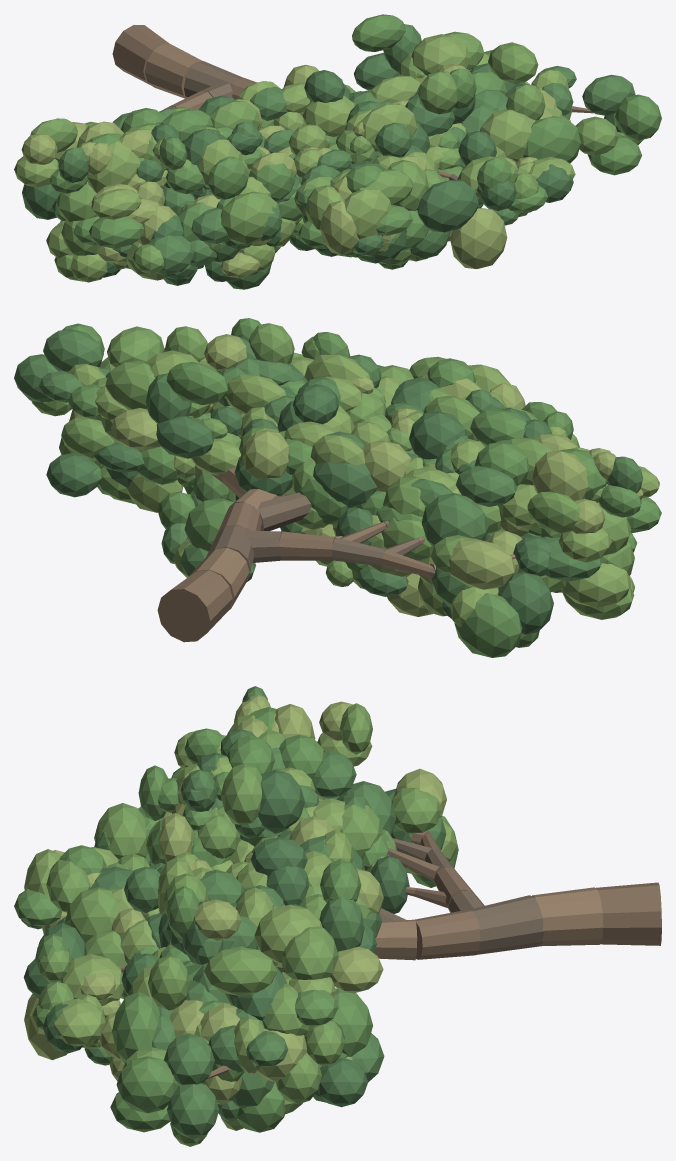
Rendered from tree_ornamental.glb.
3 views of the same model, one above another, from view 1: azimuth 30°, elevation 25°; view 2: azimuth 150°, elevation 25°; view 3: azimuth 270°, elevation 25° (orthographic). The views are drawn at different scales.
Parts seen in each view (by area): view 1: tree_part_85, tree_part_1, tree_part_0, tree_part_2, tree_part_8; view 2: tree_part_85, tree_part_0, tree_part_1, tree_part_8, tree_part_20, tree_part_9, tree_part_2, tree_part_7, tree_part_3, tree_part_10; view 3: tree_part_85, tree_part_0, tree_part_1, tree_part_2, tree_part_3, tree_part_4, tree_part_8.
Part boxes in pixels (bbox=[...]): tree_part_85: bbox=[14, 14, 661, 289]; tree_part_1: bbox=[145, 44, 202, 98]; tree_part_0: bbox=[112, 25, 169, 85]; tree_part_2: bbox=[184, 61, 243, 97]; tree_part_8: bbox=[171, 90, 212, 109]; tree_part_85: bbox=[14, 318, 661, 657]; tree_part_0: bbox=[157, 570, 232, 642]; tree_part_1: bbox=[189, 547, 249, 610]; tree_part_8: bbox=[279, 531, 335, 560]; tree_part_20: bbox=[258, 492, 311, 530]; tree_part_9: bbox=[331, 537, 385, 566]; tree_part_2: bbox=[206, 525, 254, 581]; tree_part_7: bbox=[246, 530, 282, 562]; tree_part_3: bbox=[218, 502, 261, 532]; tree_part_10: bbox=[382, 549, 432, 577]; tree_part_85: bbox=[14, 686, 458, 1146]; tree_part_0: bbox=[596, 882, 661, 945]; tree_part_1: bbox=[532, 887, 603, 946]; tree_part_2: bbox=[469, 895, 544, 954]; tree_part_3: bbox=[415, 909, 480, 959]; tree_part_4: bbox=[374, 919, 417, 960]; tree_part_8: bbox=[434, 867, 476, 912].
Size of the model in its own units: 7.3 by 2.4 by 5.7.
